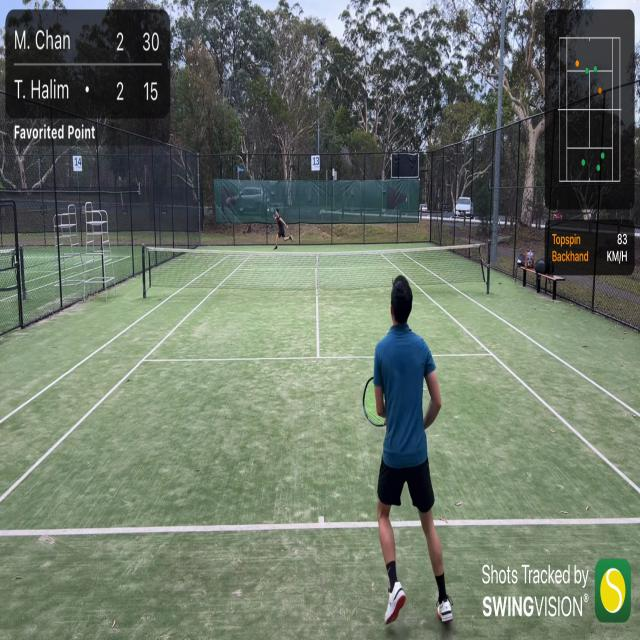ball: (267, 208, 269, 212)
